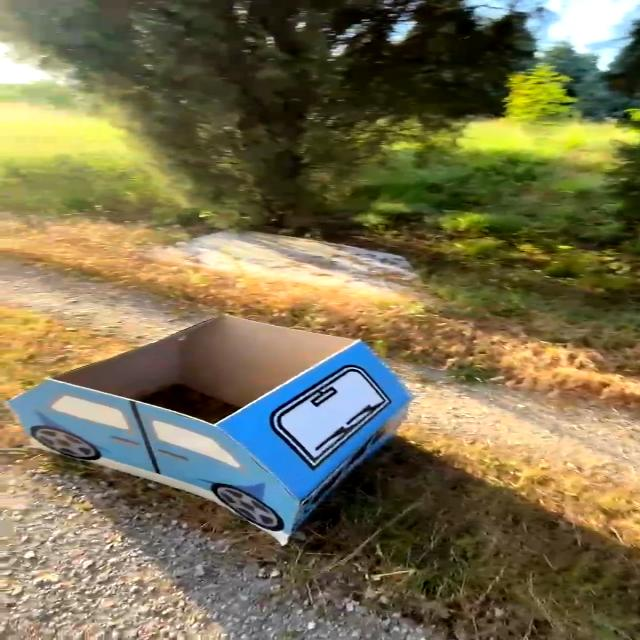blue_car: (0, 291, 457, 573)
